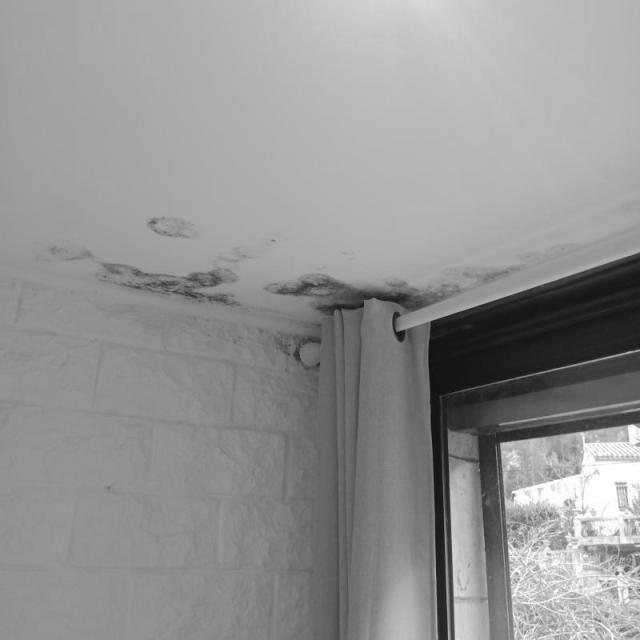stain marks: (29, 199, 565, 376)
